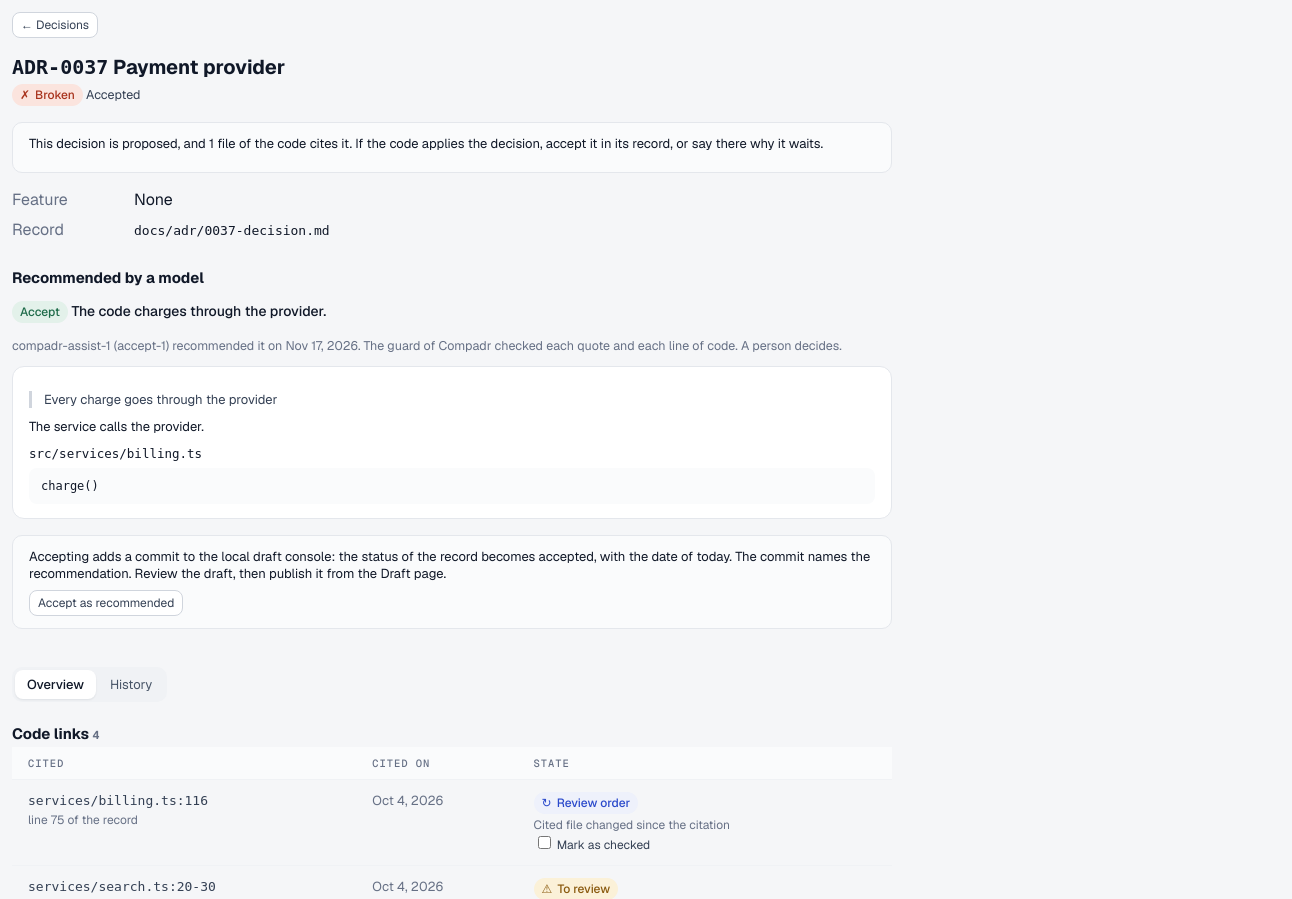
it: DecisionsView › shows the recommendation on a proposed decision, and accepts it in the draft
Expected: the text "Accept" is shown, [12, 301, 68, 323]
Expected: the text "Every charge goes through the provider" is shown, [29, 391, 875, 408]
Click the button "Accept as recommended": click(106, 603) [29, 590, 183, 616]
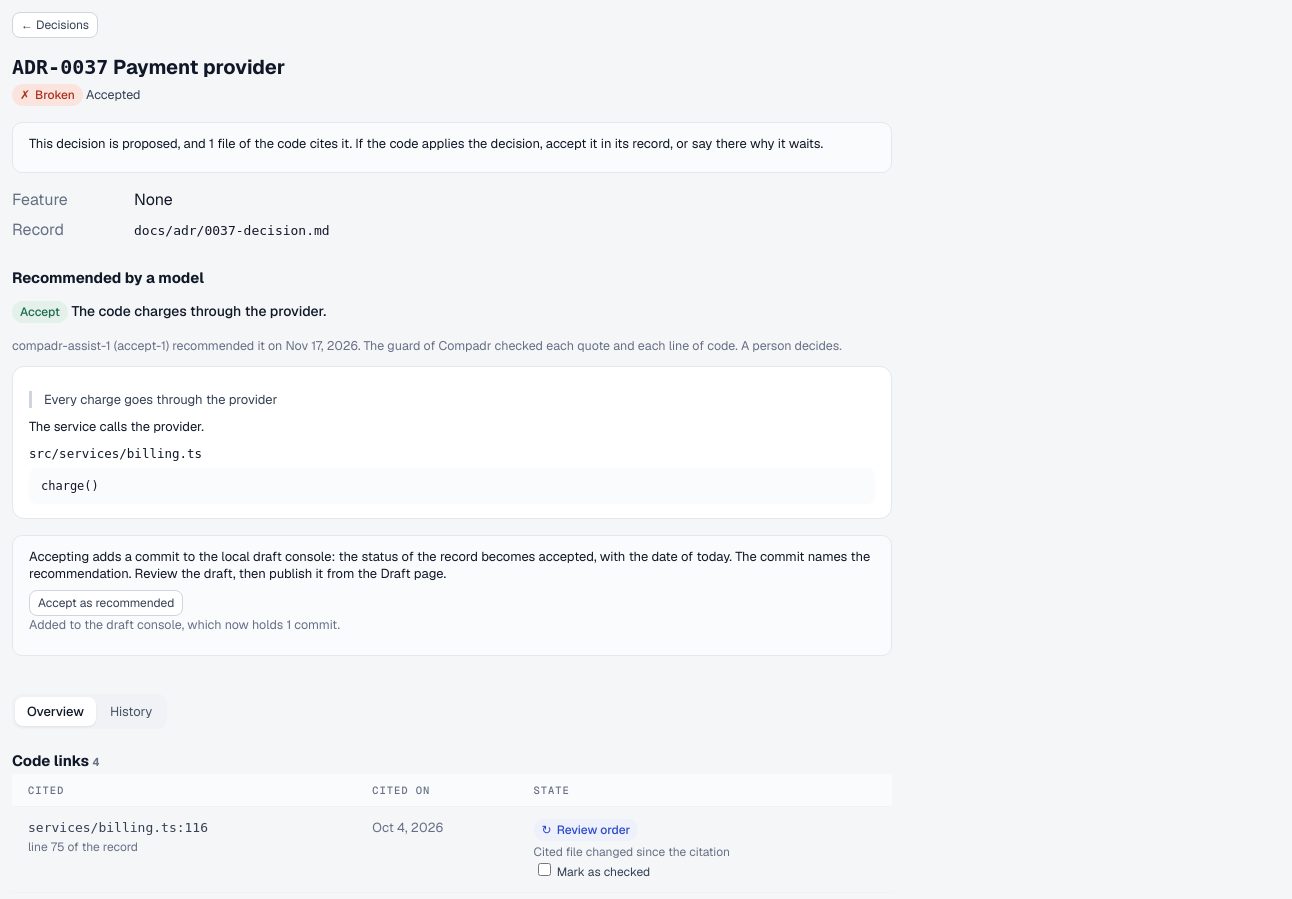
Now the text "Added to the draft console, which now holds 1 commit." is shown, box [29, 616, 340, 633]
